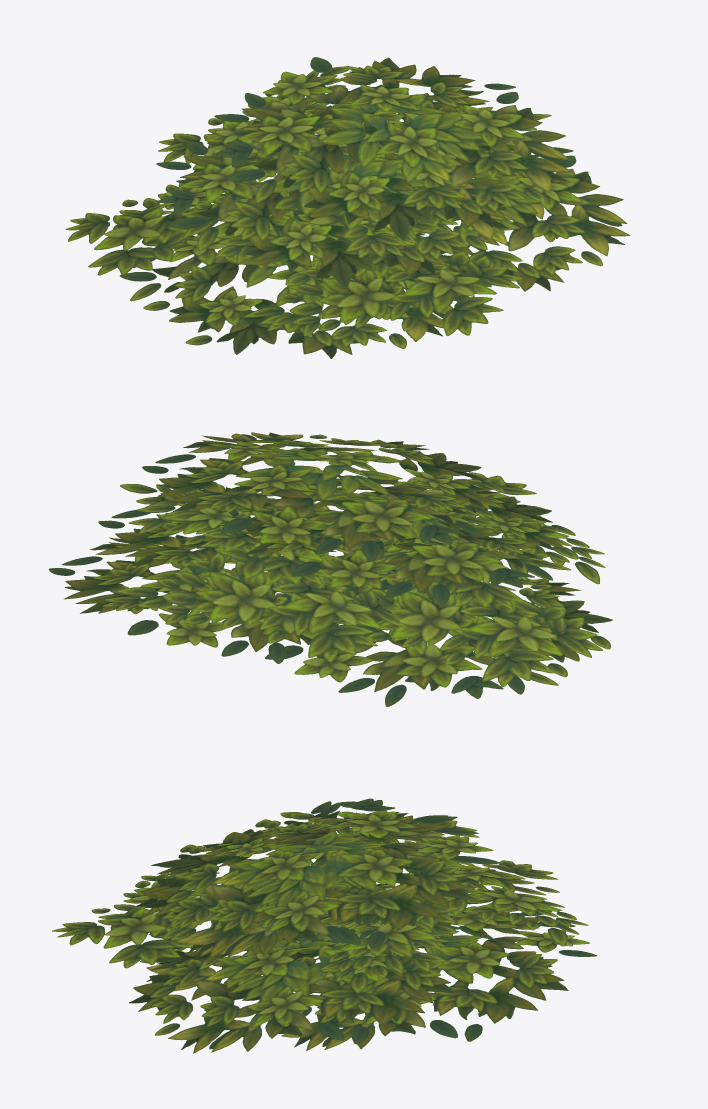
The model's file is SC_SLtree01.FBX.
The picture shows the model from 3 angles, top to bottom: view 1: azimuth 30°, elevation 25°; view 2: azimuth 150°, elevation 25°; view 3: azimuth 270°, elevation 25°; orthographic projection. The views are drawn at different scales.
Parts seen in each view (by area): view 1: SC_SLtree01; view 2: SC_SLtree01; view 3: SC_SLtree01.
Part boxes in pixels (bbox=[...]): SC_SLtree01: bbox=[65, 57, 630, 358]; SC_SLtree01: bbox=[48, 432, 612, 706]; SC_SLtree01: bbox=[52, 798, 597, 1053].
Size of the model in its own units: 2.41 by 0.5855 by 2.41.
